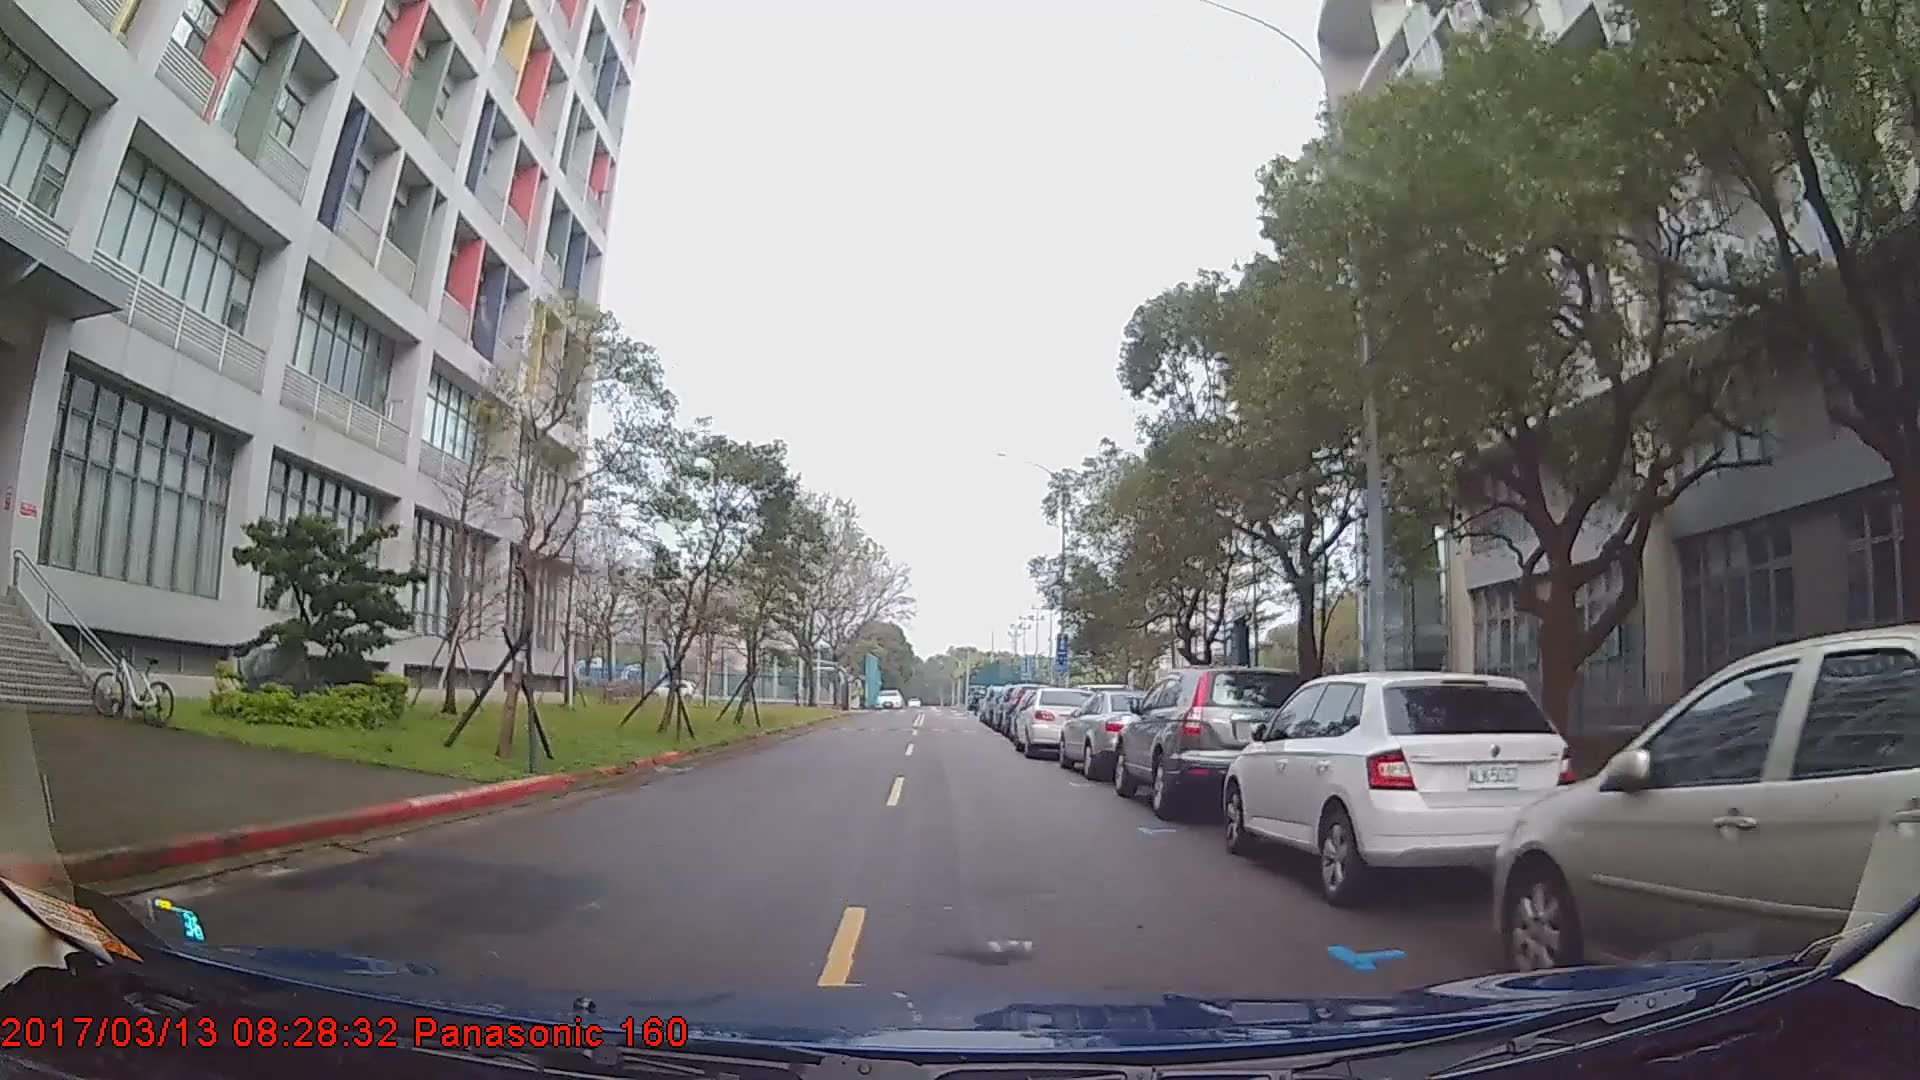vehicle: (1489, 615, 1920, 1000), (1224, 667, 1584, 911), (1112, 663, 1323, 819), (1058, 686, 1164, 777), (1011, 683, 1100, 757)
